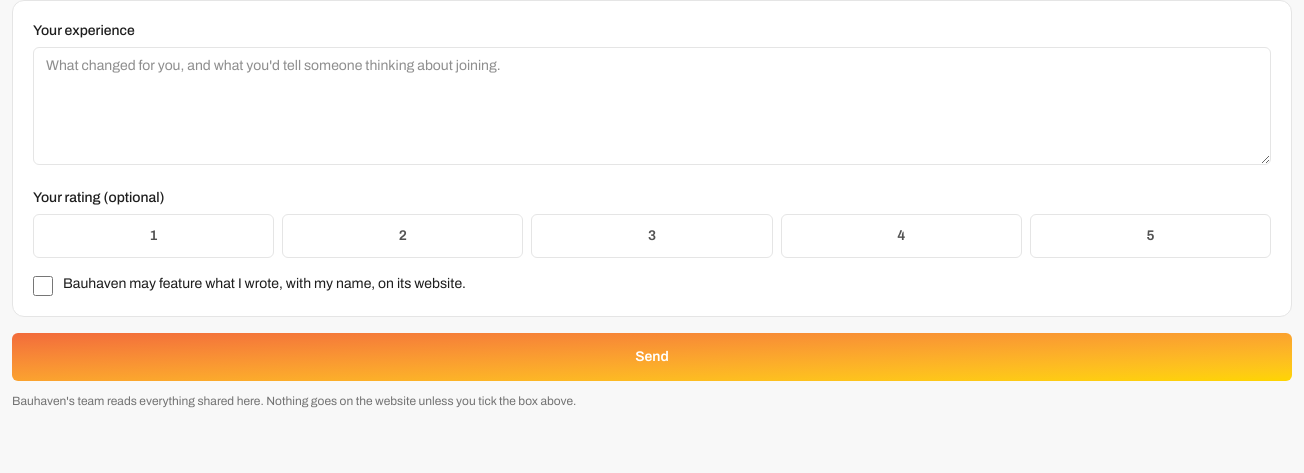
Test: TestimonyForm › thanks the learner and clears the form
Type "This bootcamp completely changed how I think about building things." into the text box labelled "Your experience".
click(652, 106); type("This bootcamp completely changed how I think about building things.")  # box [33,47,1271,165]
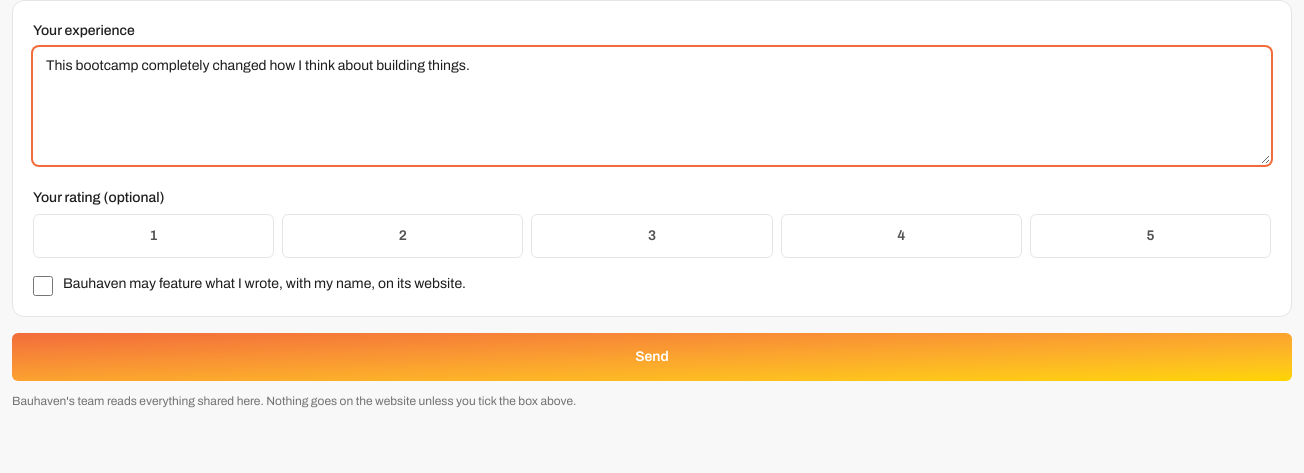
Click the button "Send".
click(652, 357)  # box [12,333,1292,381]
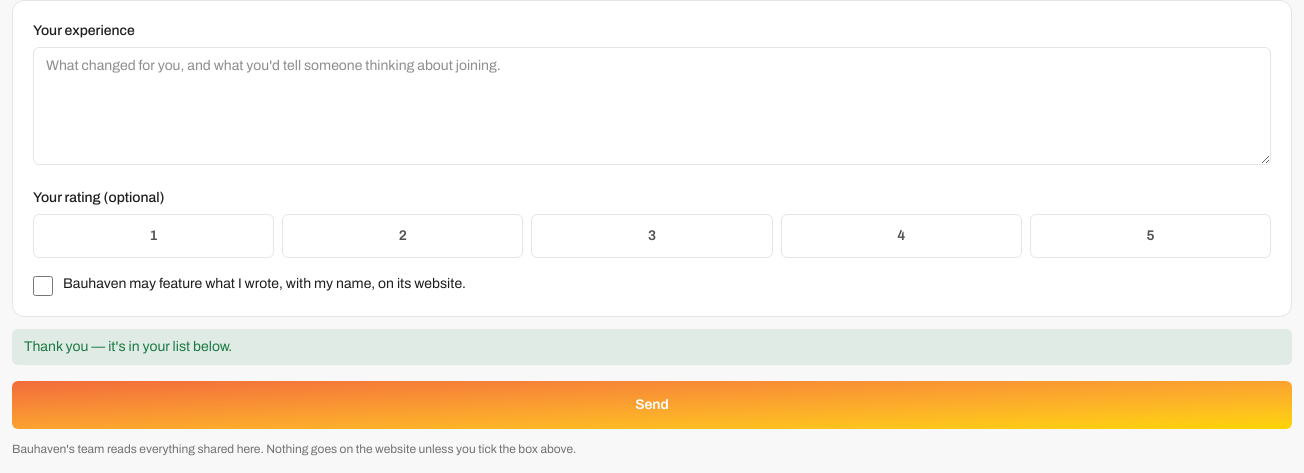
Expected: the message shows "Thank you", [24,339,232,354]
Expected: the text box labelled "Your experience" is empty, [33,47,1271,165]
